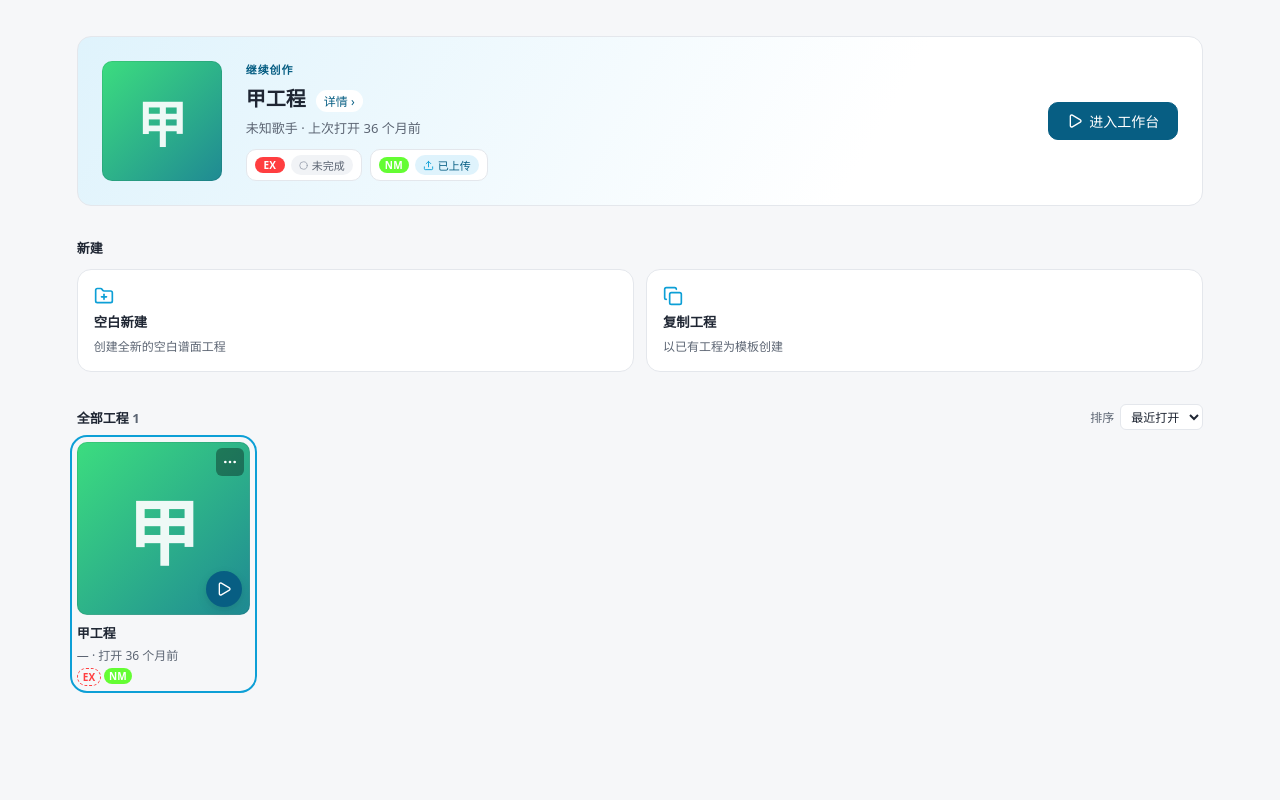
issue 19 #2 · 难度+等级徽标就地编辑 › 越界等级回车不落库（票 43）
Click the element showing "甲 甲工程 — · 打开 36 个月前 EX NM" at (163,564), box [77,442,250,686]
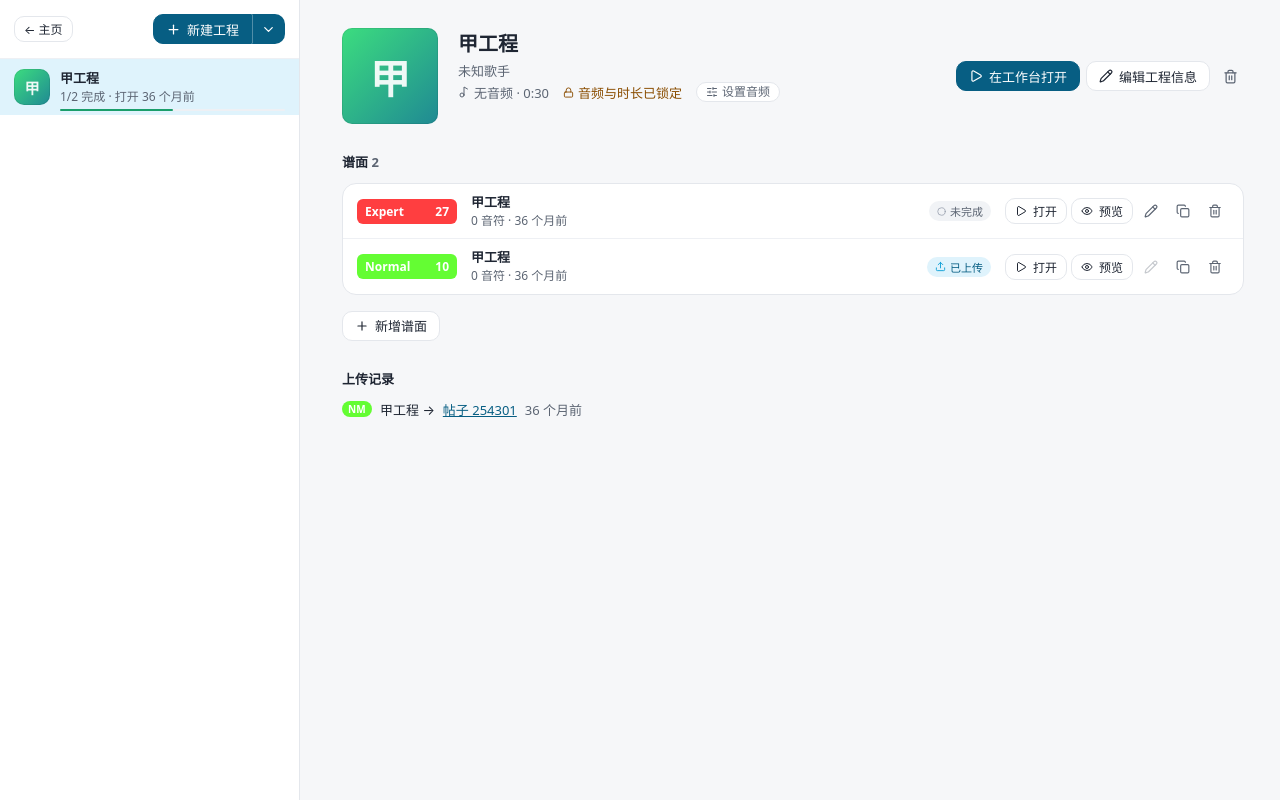
Expected: the heading "甲工程" is shown, [458,30,518,57]
Click the button titled "点击改难度 / 等级" at (407,211), box [357,199,457,224]
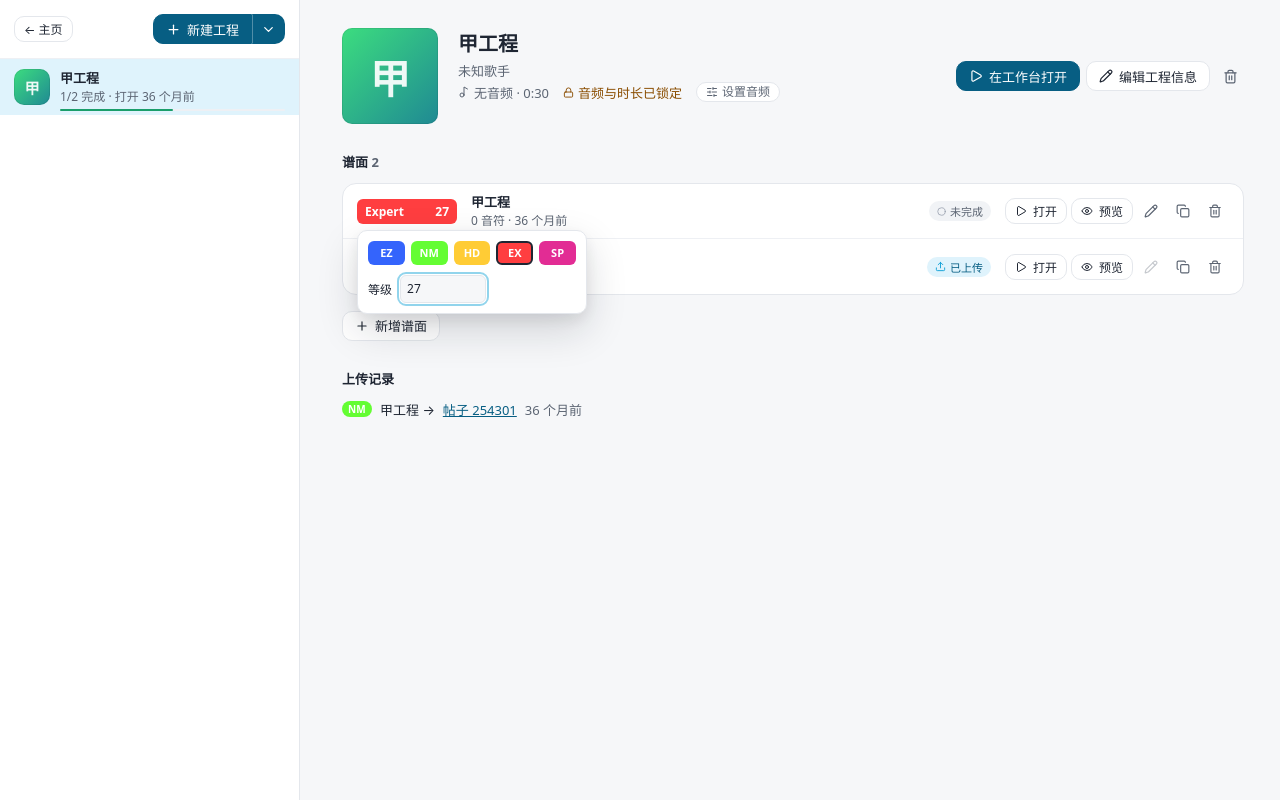
Replace the text in the field with "99" at (443,289), box [400,275,486,303]
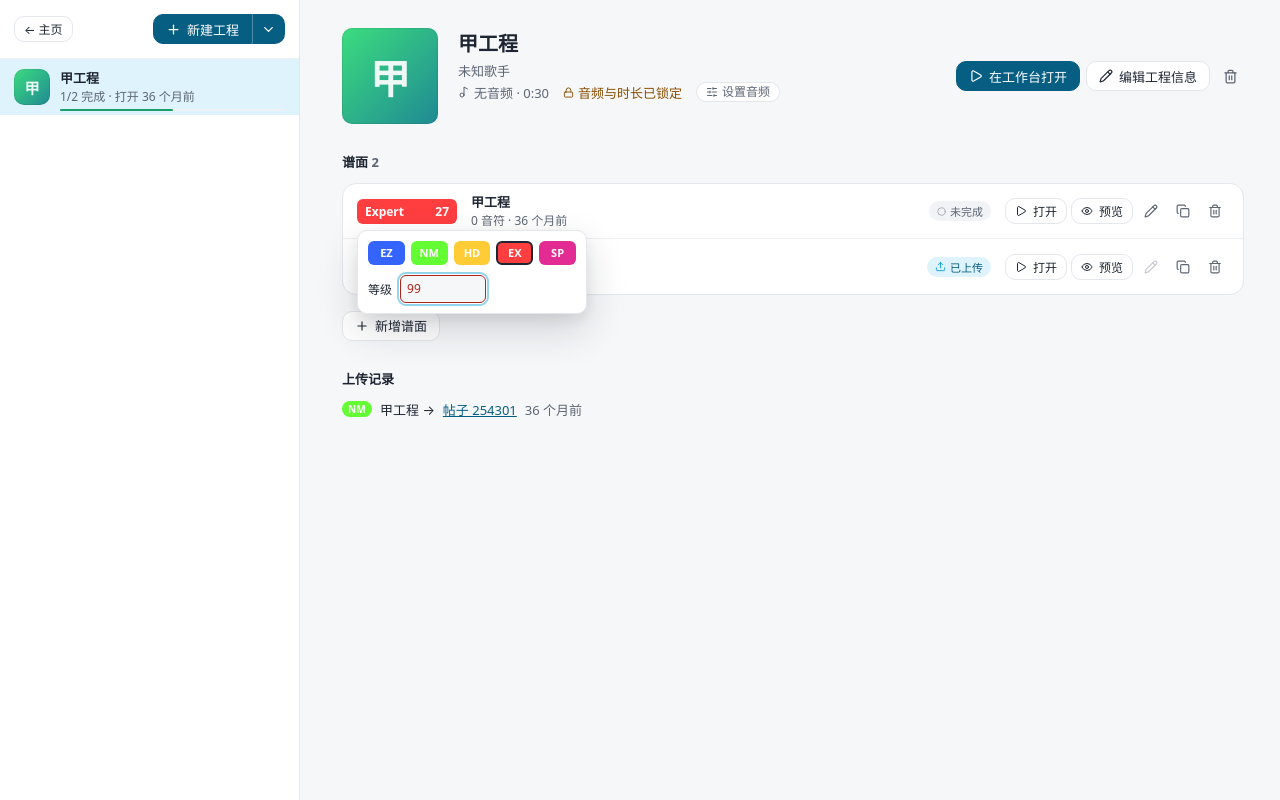
Expected: the field has class "is-missing"
Press Enter in the field, box [400,275,486,303]
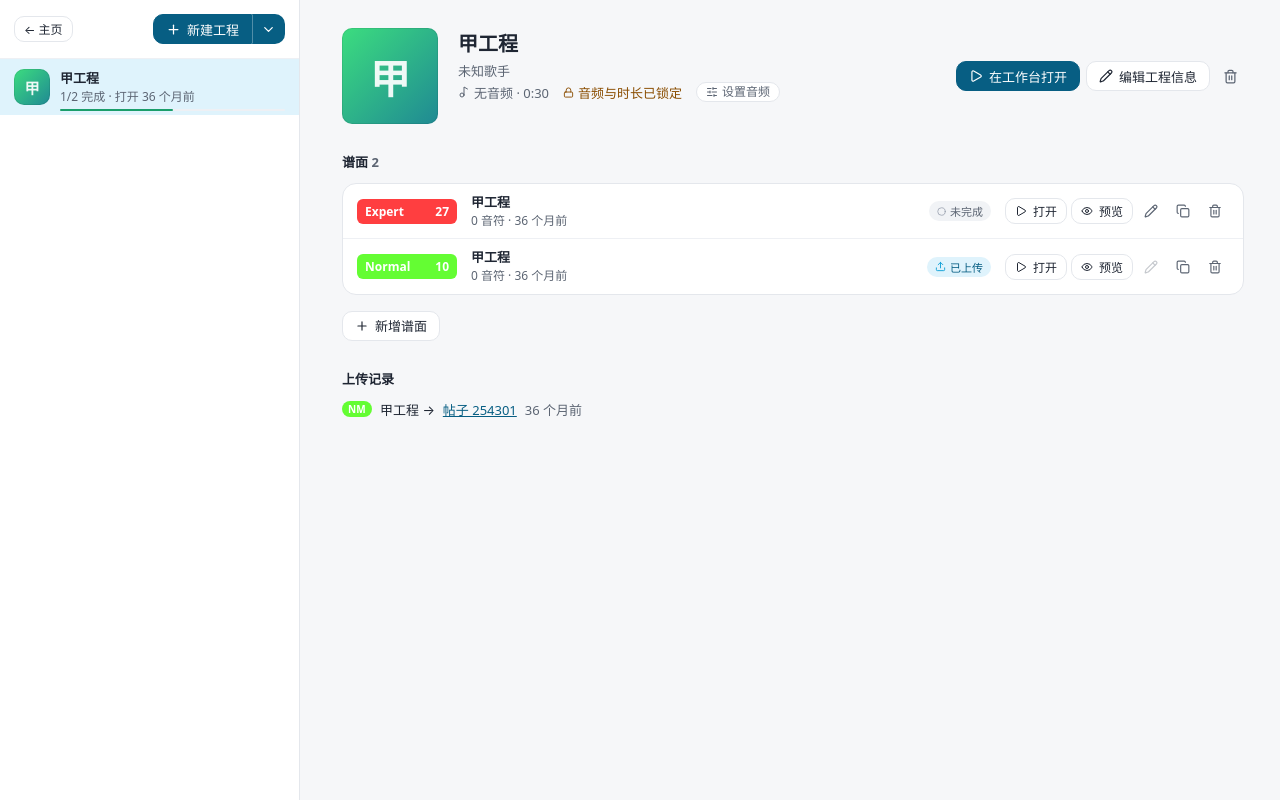
Expected: the dialog "点击改难度 / 等级" is gone
